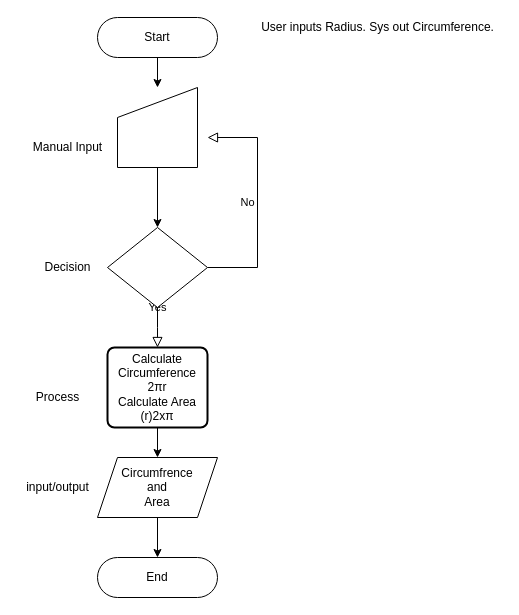
Image size: 519x615. Some labels were removed from this diagram. The shapes that lost their labels are listed below. From the top down, each one's box as (x1, y1, x2, y2) in pixels, then its label:
(116, 86, 198, 168): Input Radius
(106, 226, 208, 308): is input a number?
